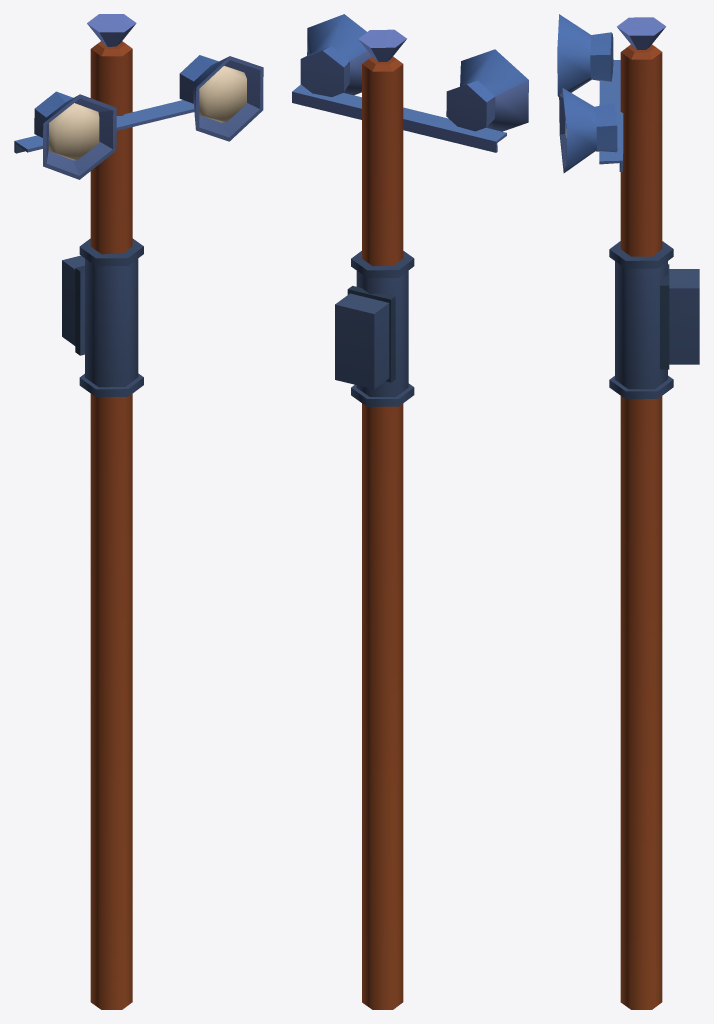
The model's file is MSH_PosteLuz_0.fbx.
3 views of the same model, side by side, from view 1: azimuth 30°, elevation 25°; view 2: azimuth 150°, elevation 25°; view 3: azimuth 270°, elevation 25° (orthographic).
Parts seen in each view (by area): view 1: Object010, Object047, MSH_PosteLuz_1_luces002; view 2: Object010, Object047; view 3: Object010, Object047.
Boxes of the visible parts, x1,y1,x2,y2 form: Object010: (62,14,143,1009); Object047: (14,55,263,179); MSH_PosteLuz_1_luces002: (48,66,246,160); Object010: (335,29,414,1009); Object047: (292,14,528,152); Object010: (609,17,699,1009); Object047: (557,14,623,173).
Size of the model in its own units: 82.32 by 346 by 45.79.
